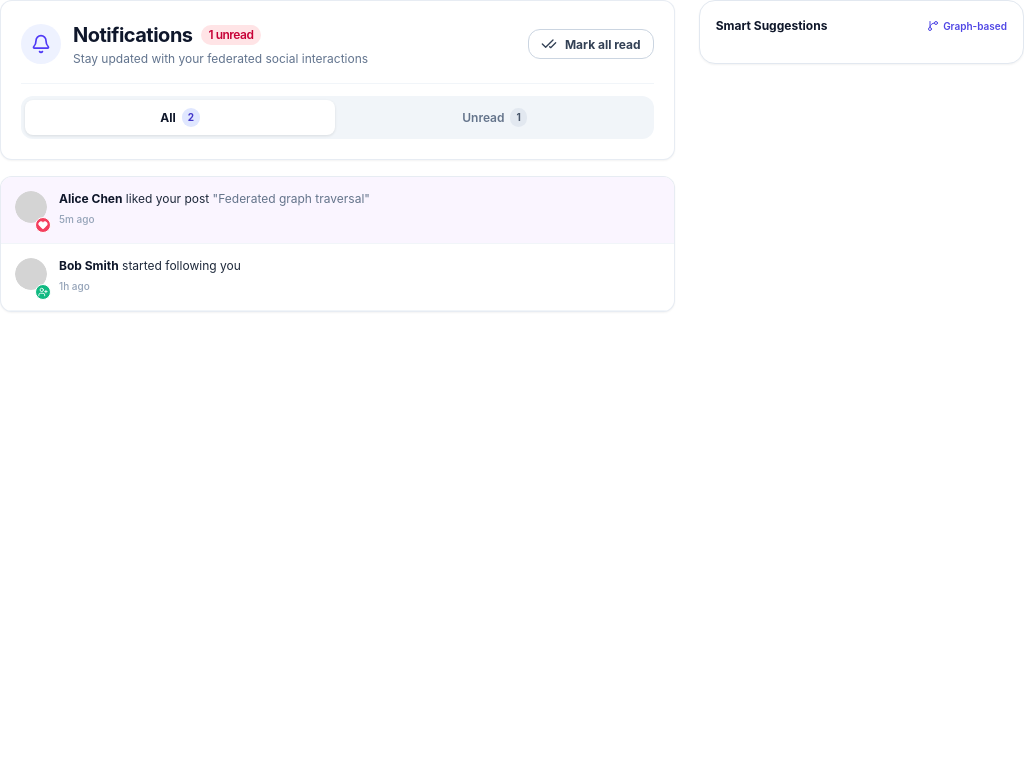
Test: NotificationsPage Component › opens PostDetailModal on notification double click
Double-click the button with test id "notification-item-notif-1" at (31, 207), box [1,177,674,244]
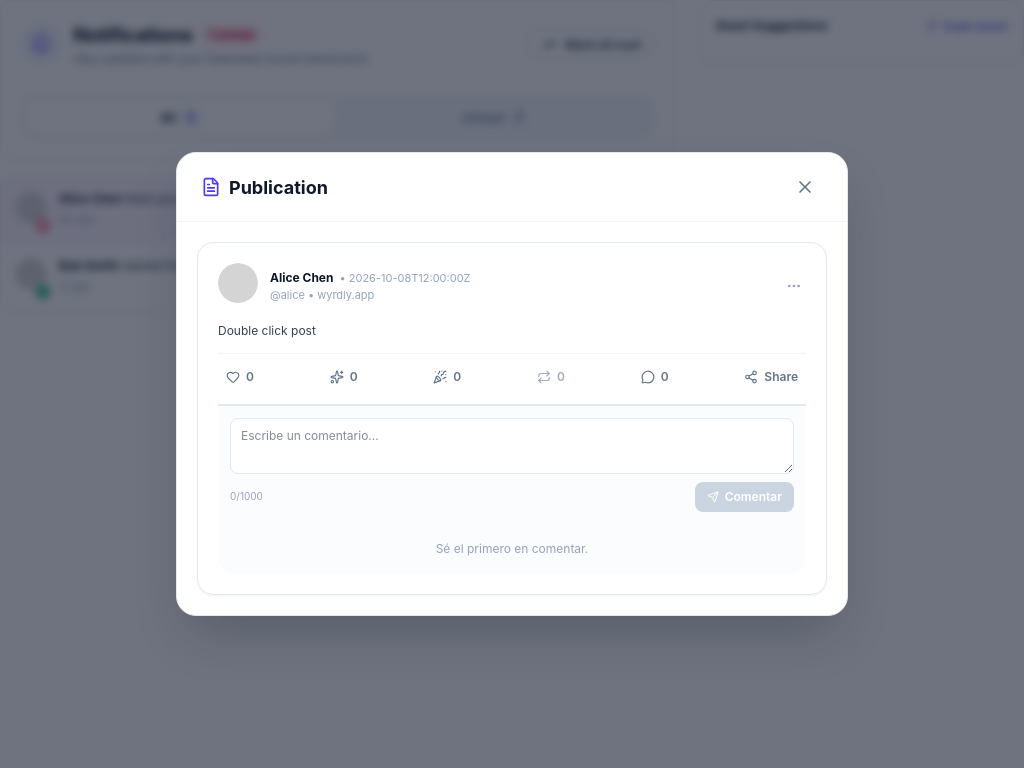
Result: the dialog with test id "post-detail-modal" is shown at [176,152,848,616]
Result: the text "Double click post" is shown at [218,323,316,338]
